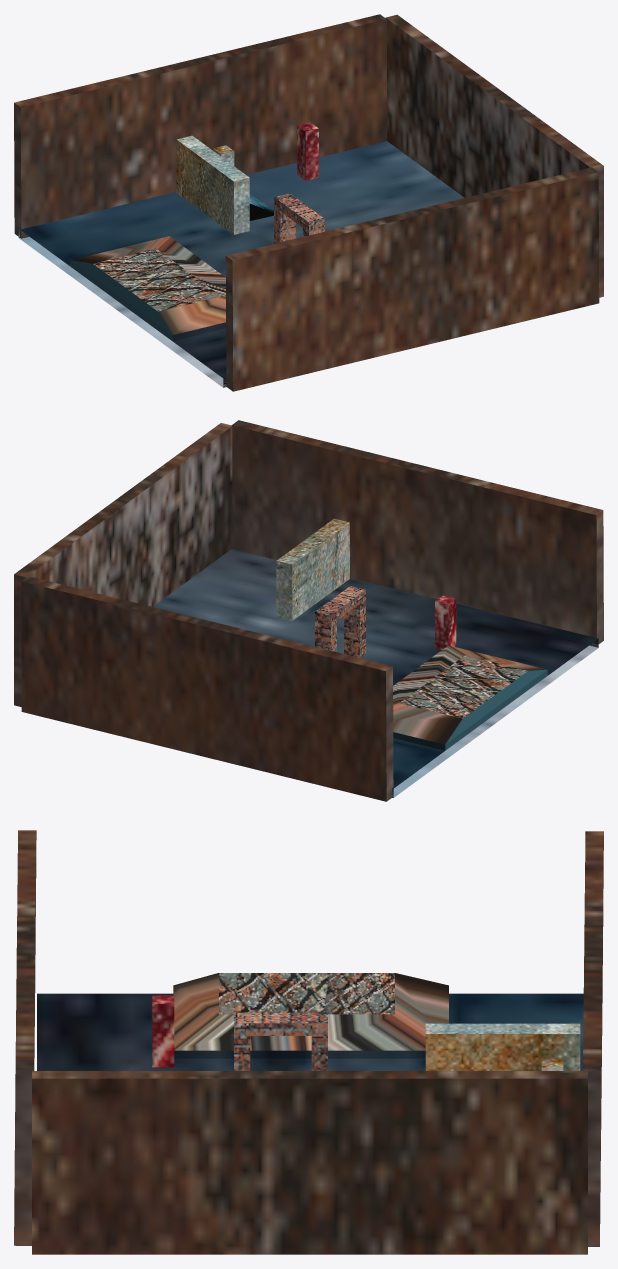
File: worstmap.gltf
3 renders of one model, top to bottom at view 1: azimuth 30°, elevation 25°; view 2: azimuth 150°, elevation 25°; view 3: azimuth 270°, elevation 25°, orthographic. The views are drawn at different scales.
Visible parts, largest first — view 1: Cube; view 2: Cube; view 3: Cube.
Boxes of the visible parts, <box> form: Cube: <box>14,14,603,391</box>; Cube: <box>14,420,603,801</box>; Cube: <box>14,830,603,1254</box>.
Size of the model in its own units: 107 by 41.83 by 107.
5 materials, 5 textured.
